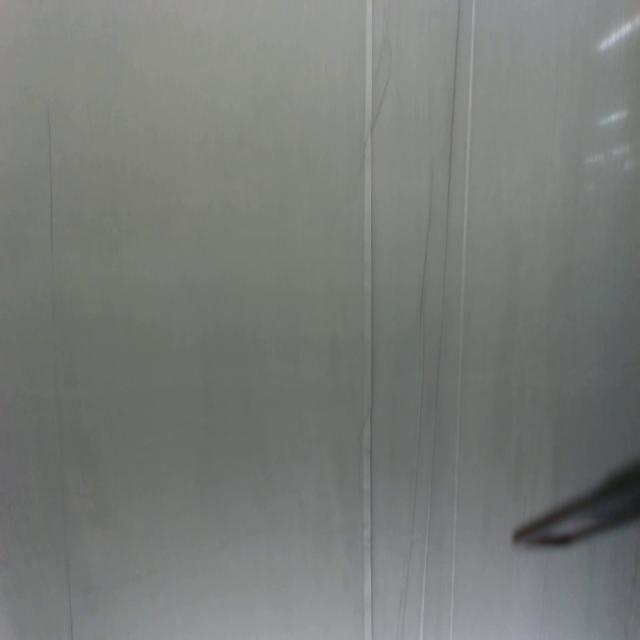crease: (398, 0, 476, 631), (362, 0, 383, 638), (45, 109, 58, 273), (64, 549, 76, 638)
